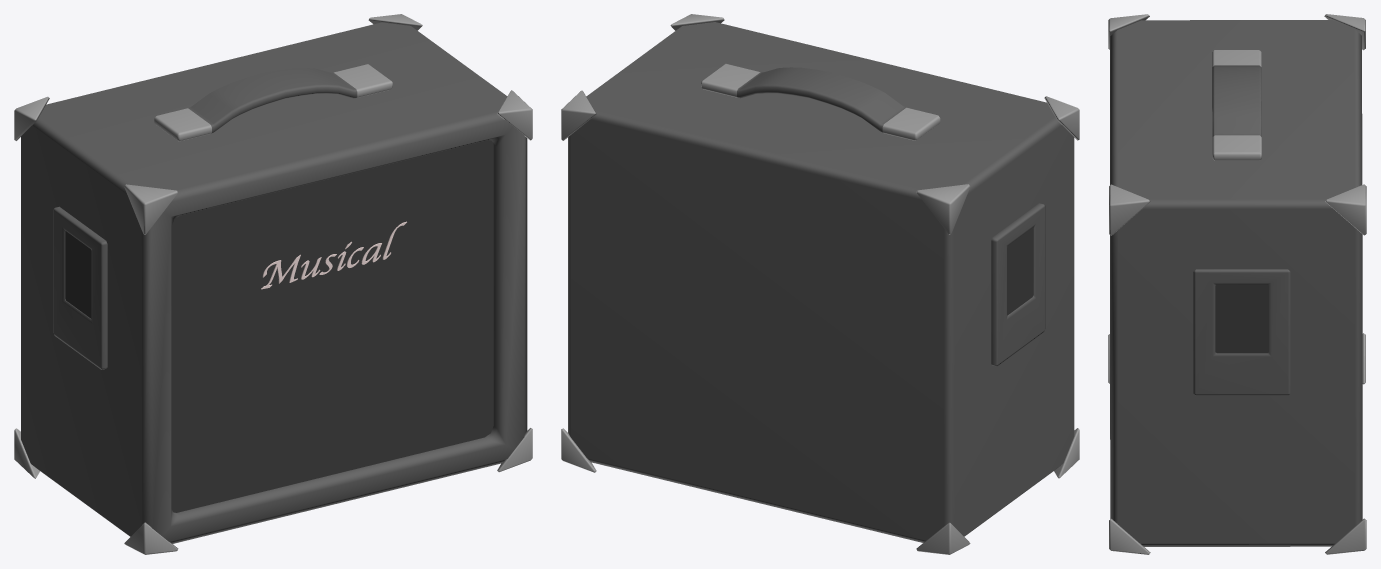
File: Store_13_Guitar_Amp_Cabinet_2.glb
3 views of the same model, side by side, from view 1: azimuth 30°, elevation 25°; view 2: azimuth 150°, elevation 25°; view 3: azimuth 270°, elevation 25° (orthographic).
Parts seen in each view (by area): view 1: Store_13_Guitar_Amp_Cabinet_2; view 2: Store_13_Guitar_Amp_Cabinet_2; view 3: Store_13_Guitar_Amp_Cabinet_2.
Boxes of the visible parts, box(x1,y1,x2,y2) form: Store_13_Guitar_Amp_Cabinet_2: box(14, 14, 532, 554); Store_13_Guitar_Amp_Cabinet_2: box(561, 14, 1079, 554); Store_13_Guitar_Amp_Cabinet_2: box(1108, 14, 1366, 554).
Bounding box in the file's own units: 0.9826 × 0.9155 × 0.5668.
Materials: 1 (1 with a texture image).
